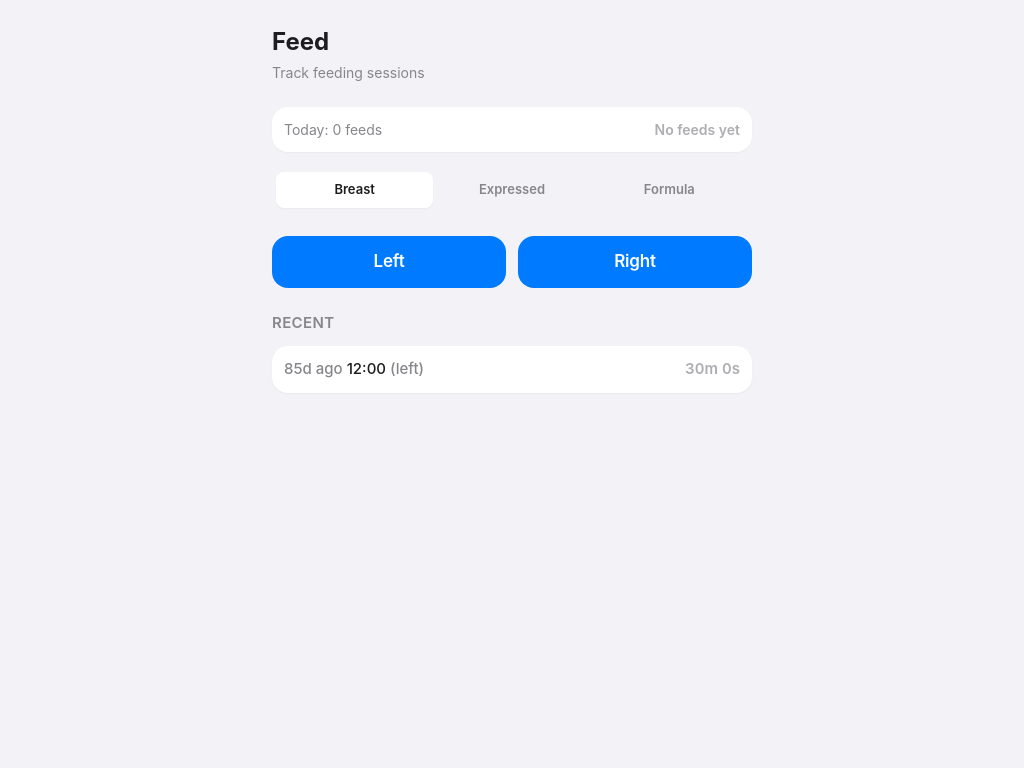
Feed › opens amount modal and logs formula feed
Click the button "Formula".
click(669, 190)  # box [591, 172, 748, 208]
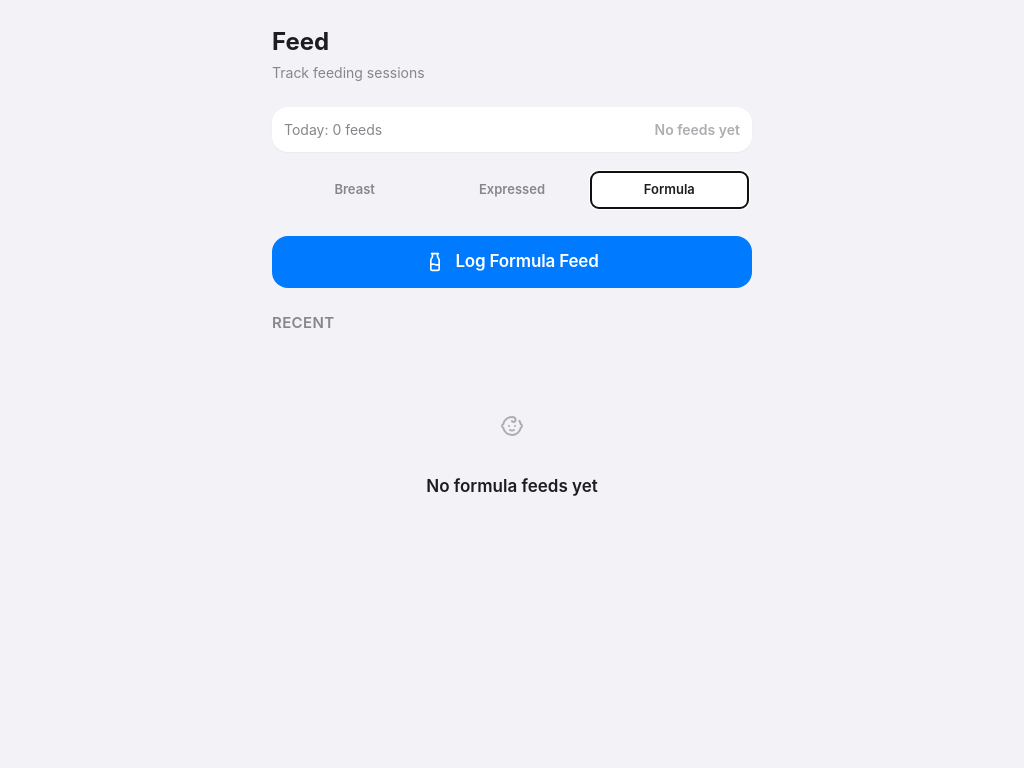
Click the button "Log Formula Feed".
click(512, 262)  # box [272, 236, 752, 288]
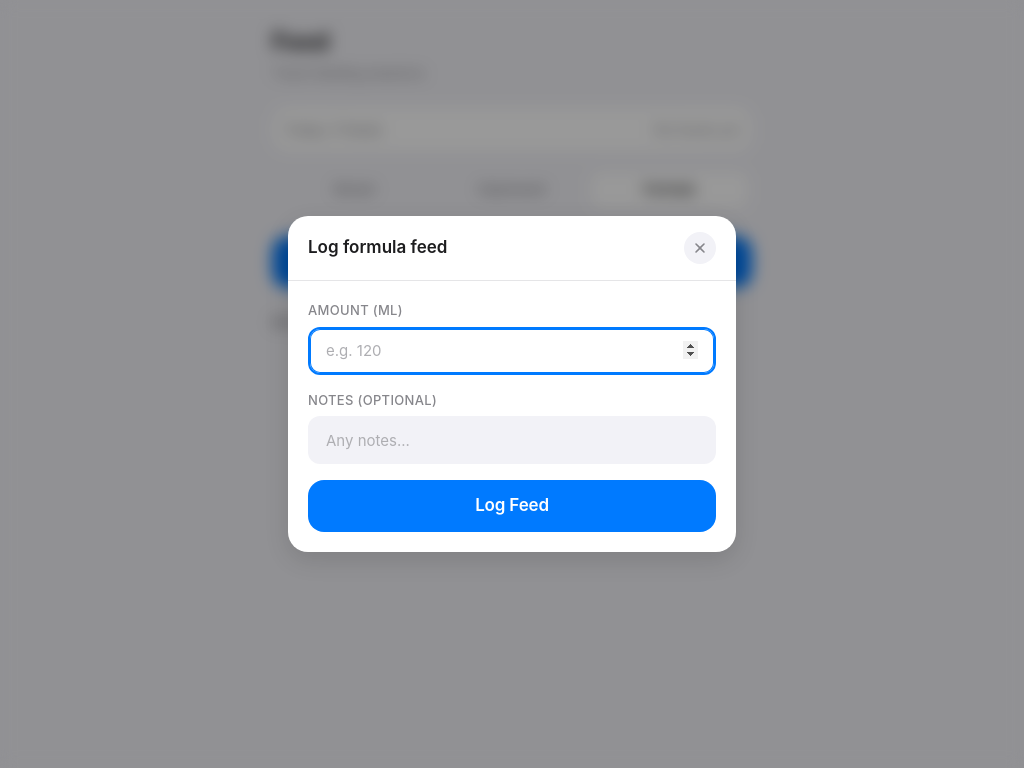
Type "150" into the number field labelled "Amount (ml)".
click(512, 350); type("150")  # box [308, 326, 716, 374]
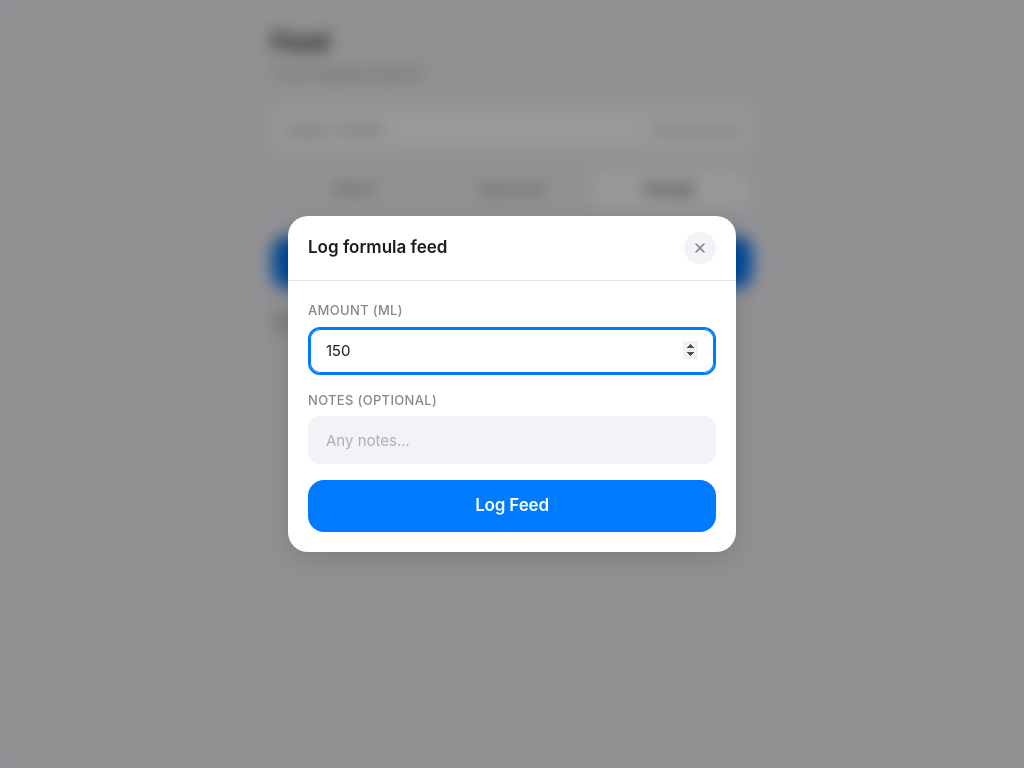
Click the button "Log Feed".
click(512, 506)  # box [308, 480, 716, 532]
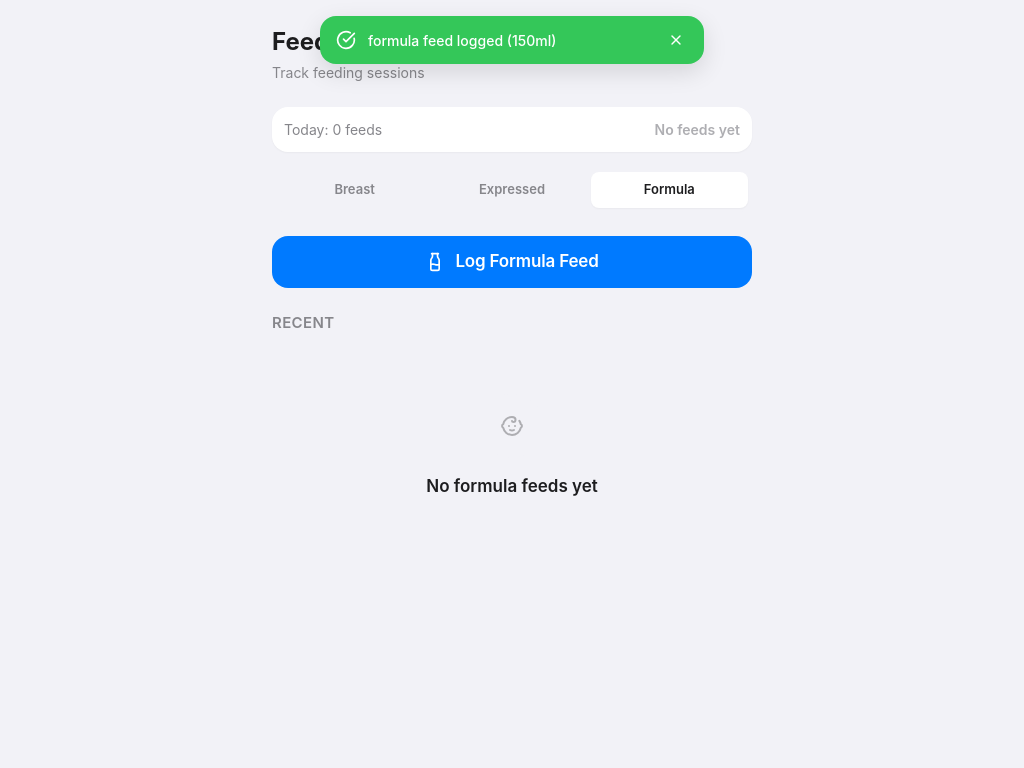
Expected: the text "formula feed logged (150ml)" is shown, [368, 32, 556, 48]
